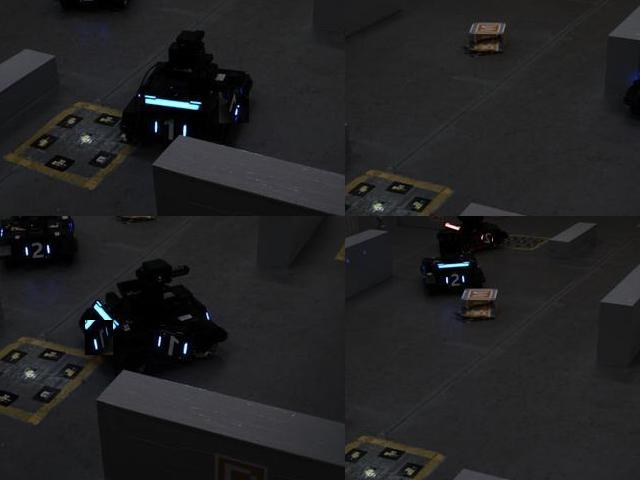armor: (146, 110, 195, 148), (154, 327, 192, 366), (86, 320, 115, 356), (220, 95, 251, 125), (21, 238, 54, 261), (444, 271, 468, 289), (479, 231, 495, 245), (74, 0, 105, 7)
